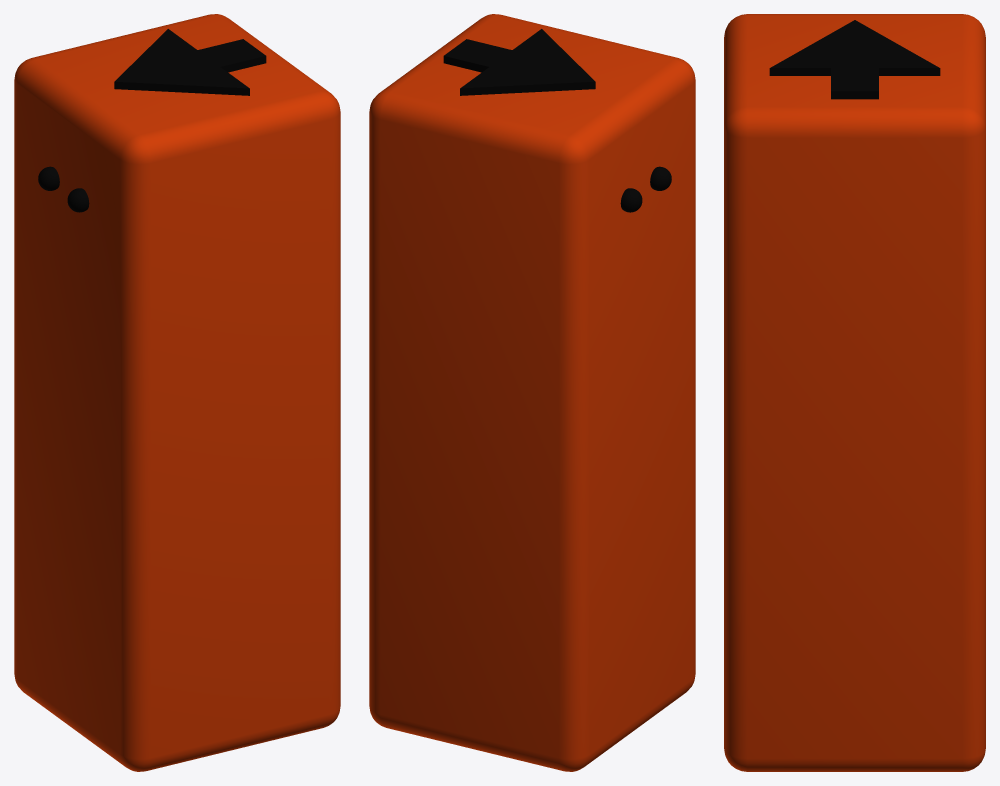
3 renders of one model, left to right at view 1: azimuth 30°, elevation 25°; view 2: azimuth 150°, elevation 25°; view 3: azimuth 270°, elevation 25°, orthographic. The views are drawn at different scales.
Visible parts, largest first — view 1: Cube.018_Cube.002_Material.005, Cube.018_Cube.002_SVGMat; view 2: Cube.018_Cube.002_Material.005, Cube.018_Cube.002_SVGMat; view 3: Cube.018_Cube.002_Material.005, Cube.018_Cube.002_SVGMat.
Part boxes in pixels (x1,y1,x2,y2): Cube.018_Cube.002_Material.005: [14, 14, 340, 771]; Cube.018_Cube.002_SVGMat: [38, 29, 266, 212]; Cube.018_Cube.002_Material.005: [369, 14, 695, 771]; Cube.018_Cube.002_SVGMat: [443, 29, 671, 212]; Cube.018_Cube.002_Material.005: [724, 14, 985, 771]; Cube.018_Cube.002_SVGMat: [769, 20, 940, 99].
Bounding box in the file's own units: 0.1904 × 0.5061 × 0.1785.
